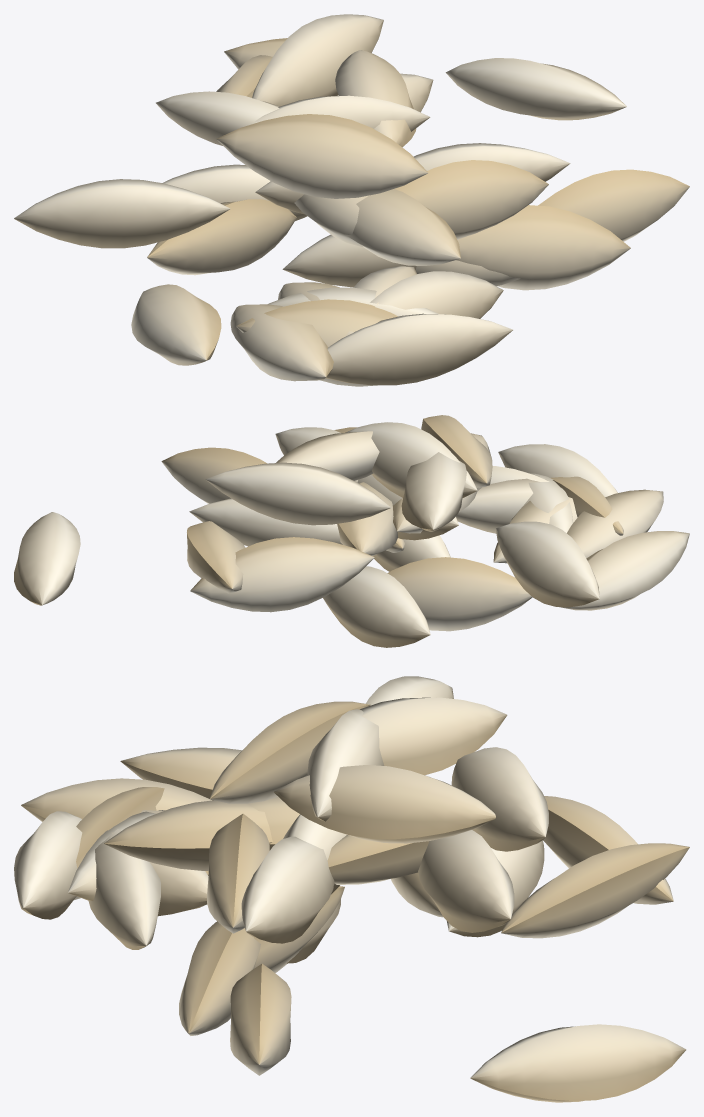
Rendered from NP_Rice_WhitePile.fbx.
3 renders of one model, top to bottom at view 1: azimuth 30°, elevation 25°; view 2: azimuth 150°, elevation 25°; view 3: azimuth 270°, elevation 25°, orthographic. The views are drawn at different scales.
Parts seen in each view (by area): view 1: NP_Rice_WhitePile.001; view 2: NP_Rice_WhitePile.001; view 3: NP_Rice_WhitePile.001.
Part boxes in pixels (box(x1,y1,x2,y2)): NP_Rice_WhitePile.001: box(14, 14, 689, 386); NP_Rice_WhitePile.001: box(14, 415, 689, 647); NP_Rice_WhitePile.001: box(14, 676, 689, 1102).
Size of the model in its own units: 19.91 by 5.75 by 16.7.
